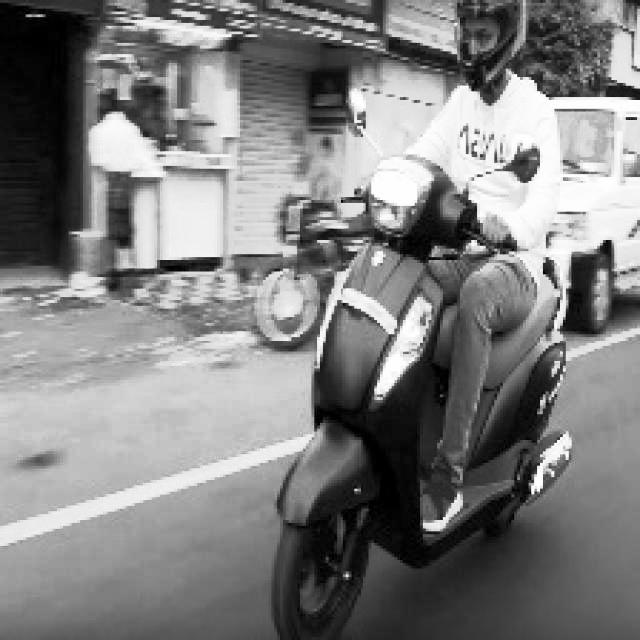Bike: (286, 164, 550, 640)
